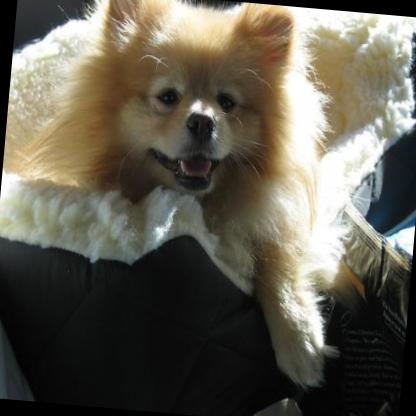Pomeranian: (0, 0, 416, 399)
